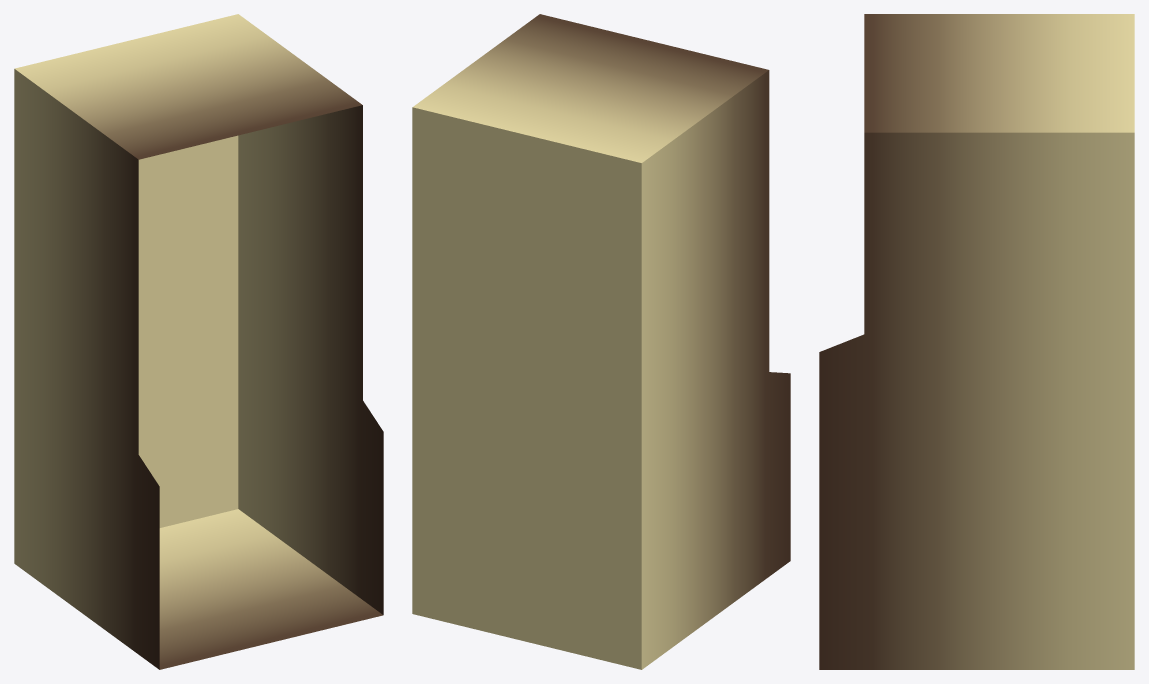
File: Wall_Entry_OutsideDoor.FBX
The picture shows the model from 3 angles, left to right: view 1: azimuth 30°, elevation 25°; view 2: azimuth 150°, elevation 25°; view 3: azimuth 270°, elevation 25°; orthographic projection. The views are drawn at different scales.
Parts seen in each view (by area): view 1: Wall_Entry_OutsideDoor; view 2: Wall_Entry_OutsideDoor; view 3: Wall_Entry_OutsideDoor.
Part boxes in pixels (box(x1,y1,x2,y2)): Wall_Entry_OutsideDoor: box(14, 14, 383, 669); Wall_Entry_OutsideDoor: box(412, 14, 790, 669); Wall_Entry_OutsideDoor: box(819, 14, 1134, 669).
Bounding box in the file's own units: 23.57 × 49.76 × 26.46.
